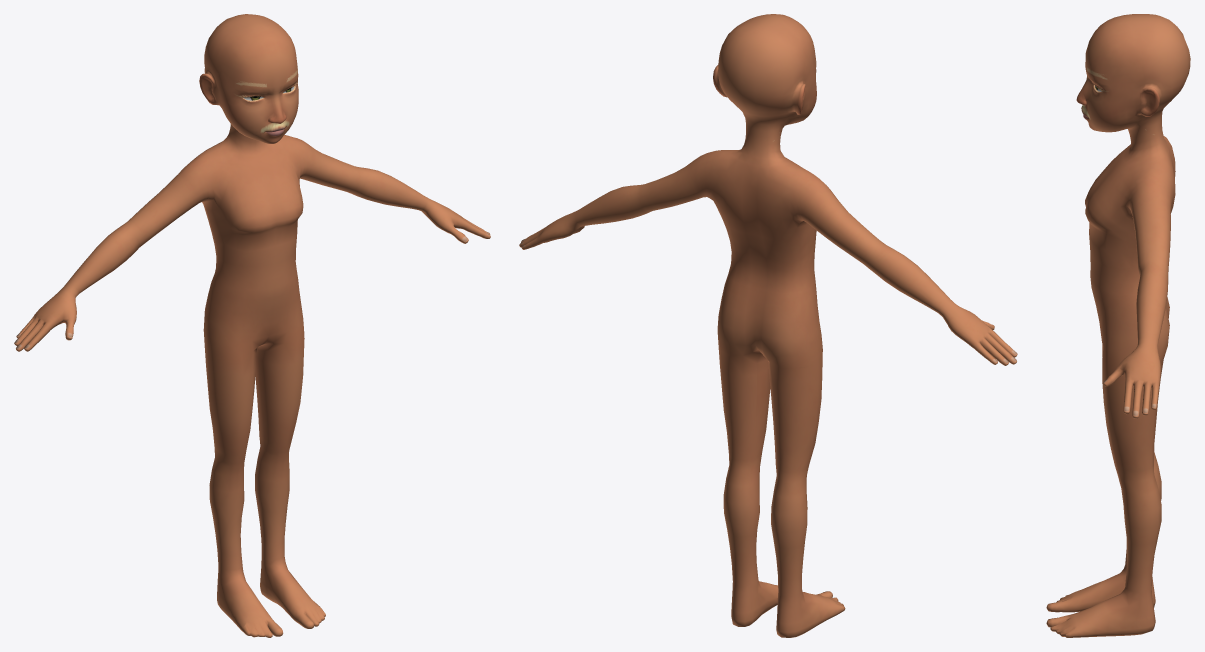
Rendered from frame_0047.glb.
3 renders of one model, left to right at view 1: azimuth 30°, elevation 25°; view 2: azimuth 150°, elevation 25°; view 3: azimuth 270°, elevation 25°, orthographic. The views are drawn at different scales.
Visible parts, largest first — view 1: frame_0047_head_geo; view 2: frame_0047_head_geo; view 3: frame_0047_head_geo.
Boxes of the visible parts, x1,y1,x2,y2 form: frame_0047_head_geo: [14, 14, 490, 637]; frame_0047_head_geo: [519, 14, 1017, 637]; frame_0047_head_geo: [1046, 14, 1190, 637].
Size of the model in its own units: 1.28 by 1.5 by 0.3253.
3 materials, 3 textured.
